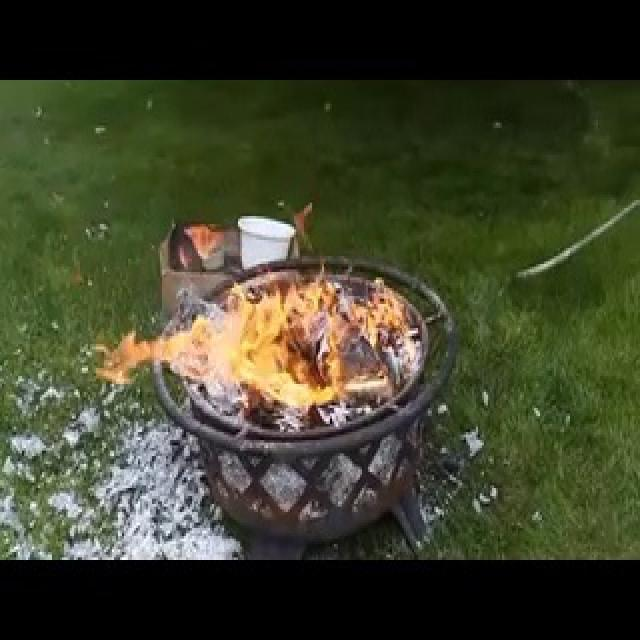fire: (211, 141, 459, 419)
